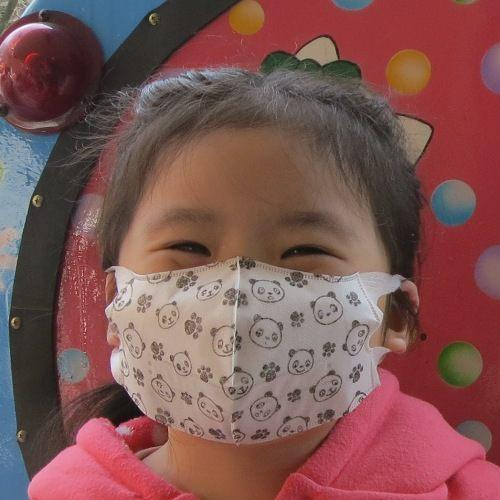OK: (131, 178, 397, 444)
